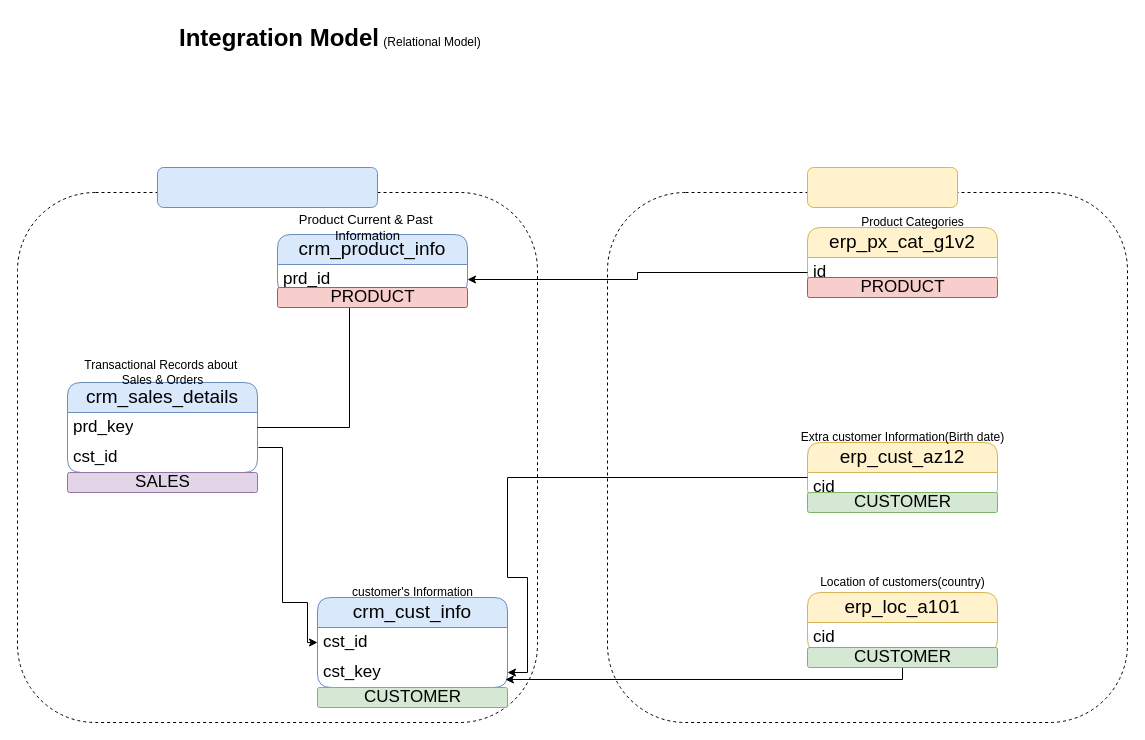
This 1145x740 diagram has some shape labels left out. The centre of each missing label's shape, as x and y in pixels:
"CRM" belongs at point 267,187.
"ERP" belongs at point 882,187.
